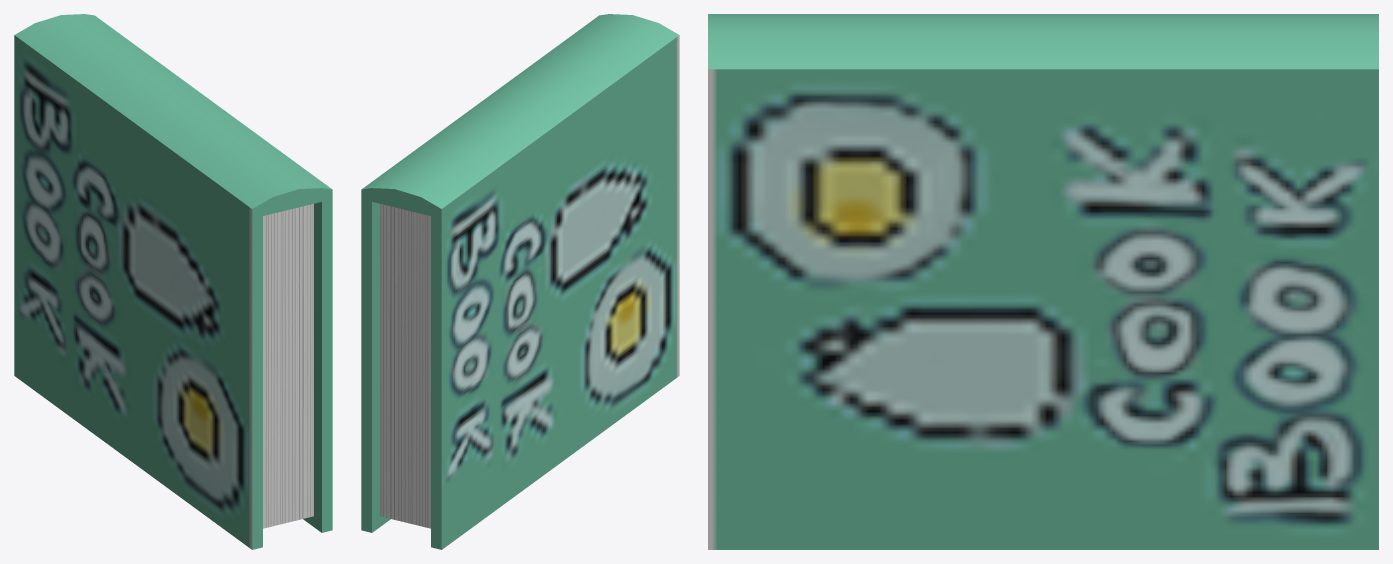
The model's file is book2.fbx.
The picture shows the model from 3 angles, left to right: view 1: azimuth 30°, elevation 25°; view 2: azimuth 150°, elevation 25°; view 3: azimuth 270°, elevation 25°; orthographic projection. The views are drawn at different scales.
Visible parts, largest first — view 1: book2; view 2: book2; view 3: book2.
Boxes of the visible parts, <box> form: book2: <box>14,14,332,549</box>; book2: <box>361,14,679,549</box>; book2: <box>708,14,1378,549</box>.
Bounding box in the file's own units: 1.78 × 9.14 × 7.41.
Materials: 1 (1 with a texture image).
